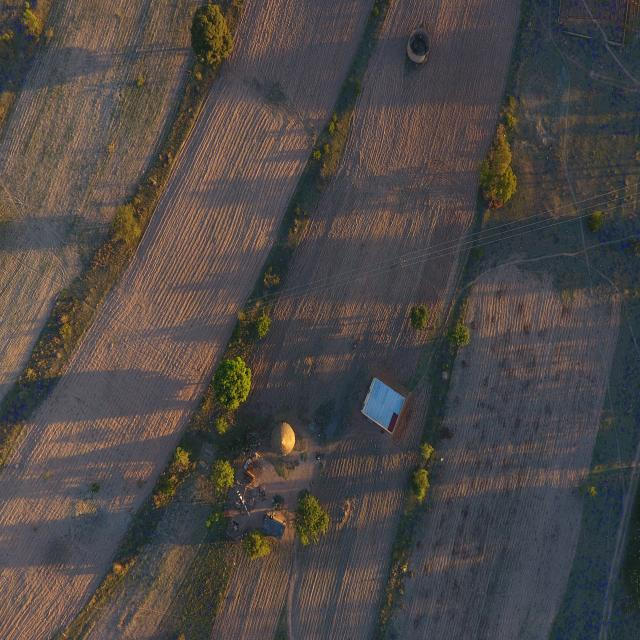boundaries: (93, 55, 376, 593), (10, 86, 217, 404), (362, 310, 486, 622)
